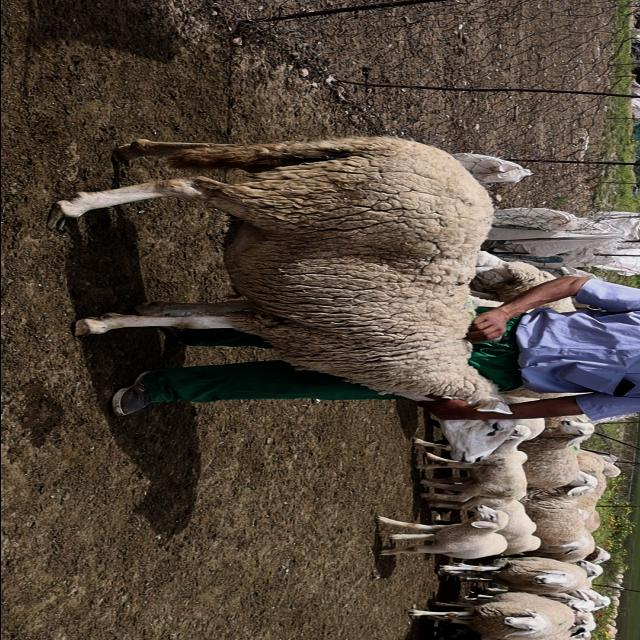Score_3: (48, 137, 500, 417)
